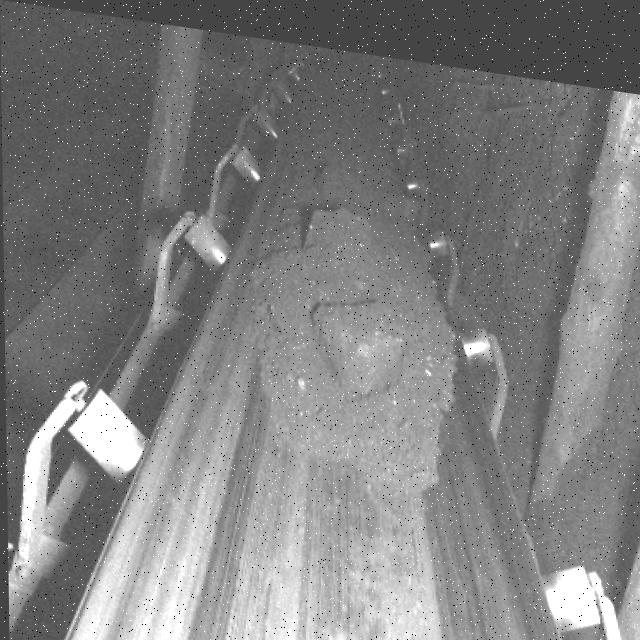large_sized_coal: (318, 282, 407, 392), (299, 192, 369, 266)
